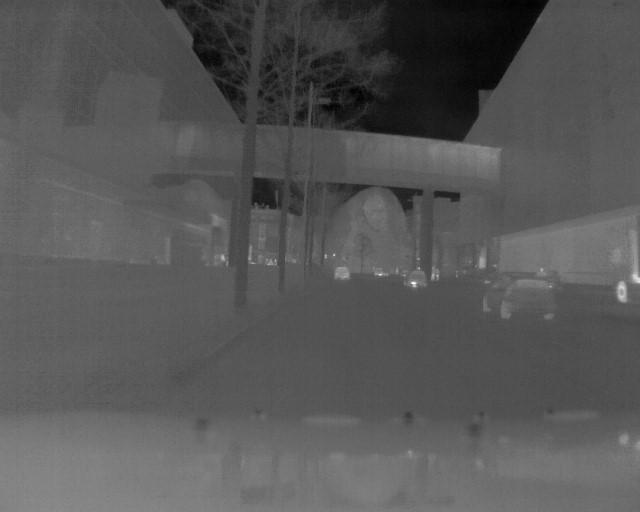car: (477, 271, 558, 325), (401, 264, 434, 291), (330, 263, 353, 287)
